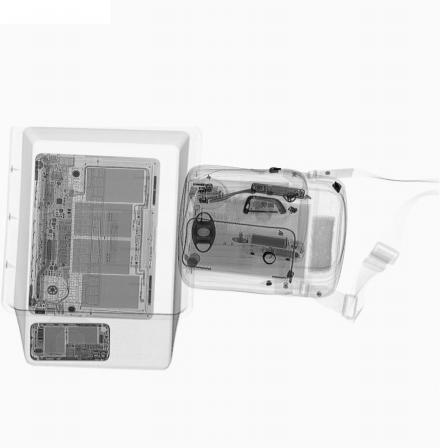Lighter: (192, 205, 204, 228)
